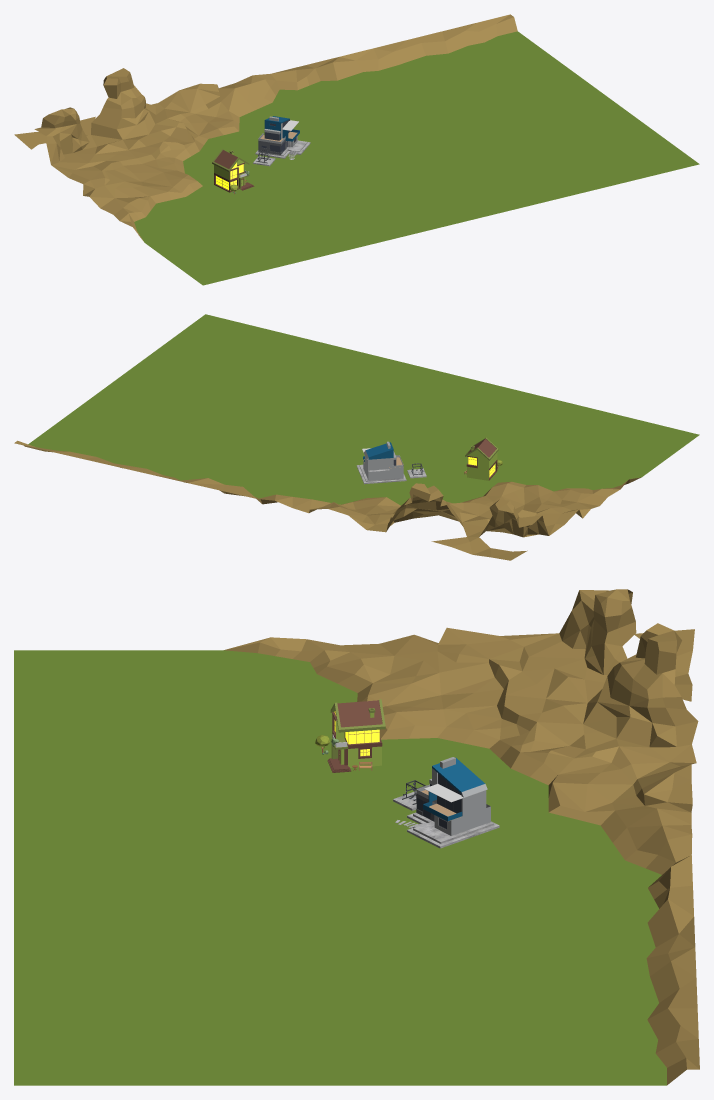
Rendered from menu_v0.fbx.
3 renders of one model, top to bottom at view 1: azimuth 30°, elevation 25°; view 2: azimuth 150°, elevation 25°; view 3: azimuth 270°, elevation 25°, orthographic. The views are drawn at different scales.
Parts seen in each view (by area): view 1: floor, man_house, girl_house; view 2: floor, man_house, girl_house; view 3: floor, man_house, girl_house.
Part boxes in pixels (x1,y1,x2,y2): floor: (14, 14, 699, 285); man_house: (253, 116, 310, 166); girl_house: (212, 149, 254, 194); floor: (14, 314, 699, 560); man_house: (356, 441, 426, 484); girl_house: (464, 437, 502, 480); floor: (14, 589, 699, 1085); man_house: (393, 757, 499, 848); girl_house: (315, 699, 385, 772).
Bounding box in the file's own units: 24.06 × 2.62 × 15.9.
8 materials, 3 textured.
